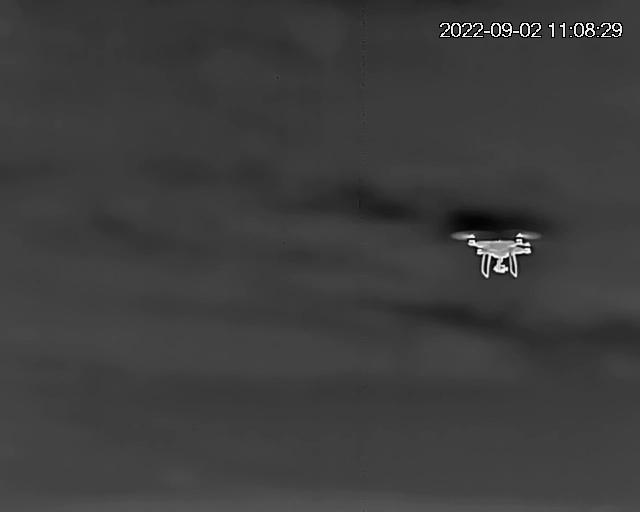DJI-Phantom: (455, 229, 539, 279)
